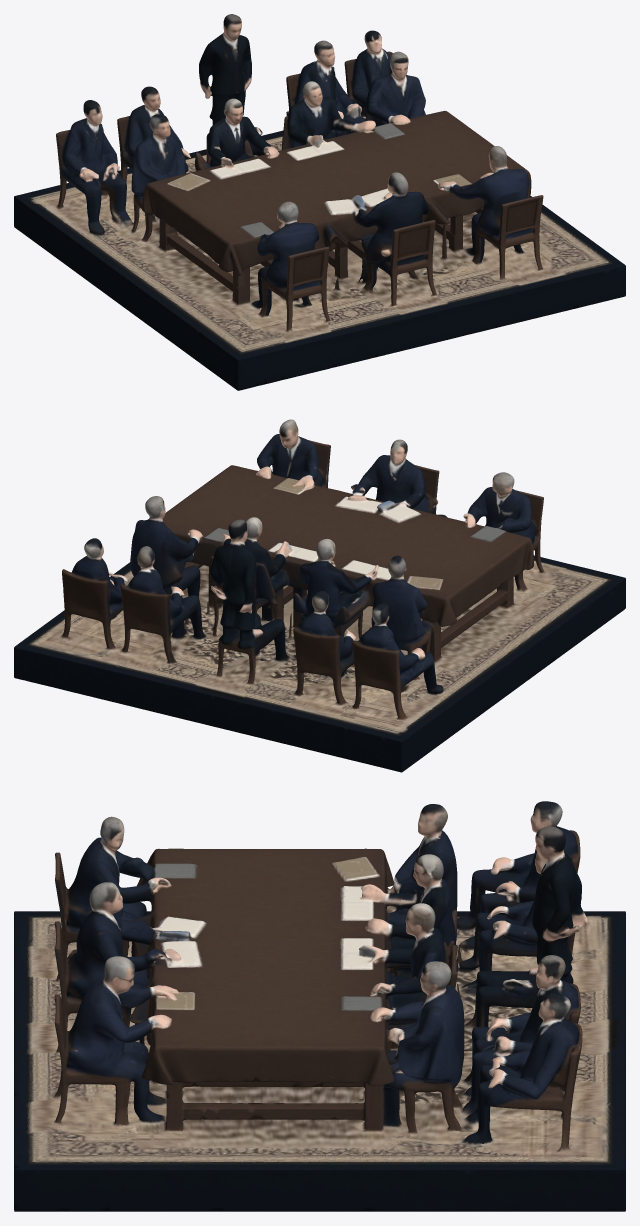
Rendered from dam_phan_pari_1968.glb.
3 renders of one model, top to bottom at view 1: azimuth 30°, elevation 25°; view 2: azimuth 150°, elevation 25°; view 3: azimuth 270°, elevation 25°, orthographic. The views are drawn at different scales.
Size of the model in its own units: 1.83 by 0.8339 by 1.83.
Materials: 1 (1 with a texture image).
